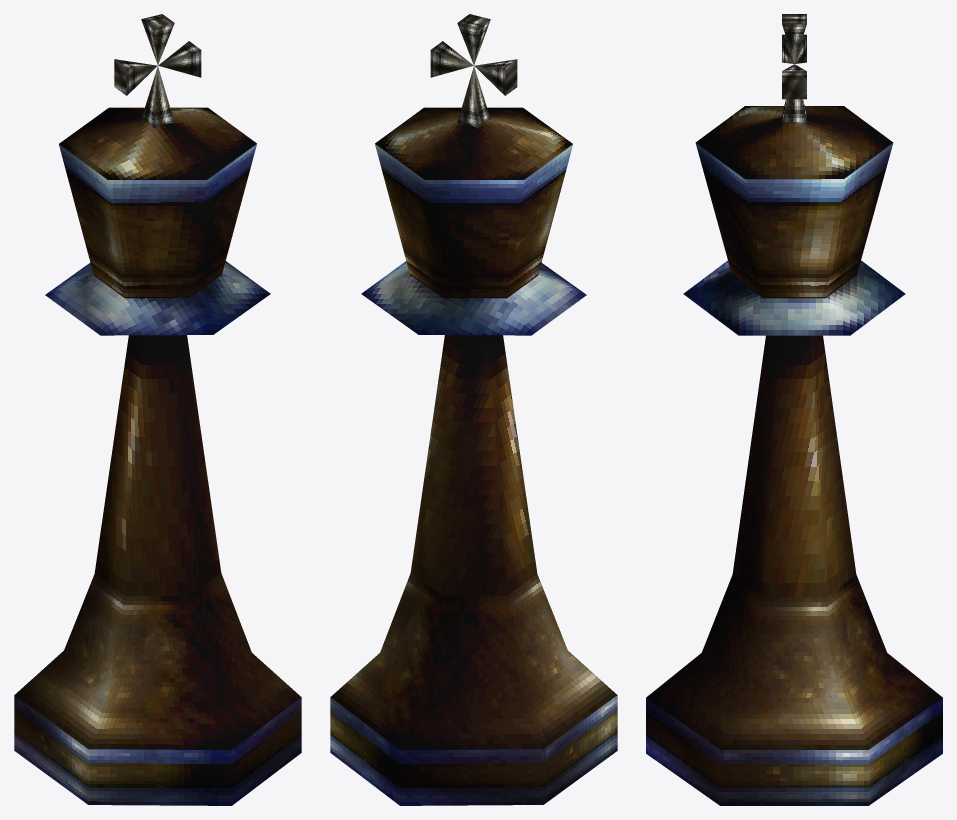
Rendered from KingB.obj.
3 renders of one model, left to right at view 1: azimuth 30°, elevation 25°; view 2: azimuth 150°, elevation 25°; view 3: azimuth 270°, elevation 25°, orthographic.
Visible parts, largest first — view 1: Mesh2 Group3 Group1 Model, Mesh3 Group4 Group1 Model, Mesh1 Group2 Group1 Model, Mesh5 Group5 Group1 Model, Mesh6 Group5 Group1 Model, Mesh7 Group5 Group1 Model, Mesh4 Group5 Group1 Model; view 2: Mesh2 Group3 Group1 Model, Mesh3 Group4 Group1 Model, Mesh1 Group2 Group1 Model, Mesh5 Group5 Group1 Model, Mesh6 Group5 Group1 Model, Mesh7 Group5 Group1 Model, Mesh4 Group5 Group1 Model; view 3: Mesh2 Group3 Group1 Model, Mesh3 Group4 Group1 Model, Mesh1 Group2 Group1 Model, Mesh7 Group5 Group1 Model, Mesh4 Group5 Group1 Model, Mesh5 Group5 Group1 Model.
Part boxes in pixels (x1=…): Mesh2 Group3 Group1 Model: x1=14, y1=335, x2=301, y2=805; Mesh3 Group4 Group1 Model: x1=59, y1=107, x2=256, y2=298; Mesh1 Group2 Group1 Model: x1=45, y1=261, x2=270, y2=335; Mesh5 Group5 Group1 Model: x1=141, y1=66, x2=174, y2=128; Mesh6 Group5 Group1 Model: x1=114, y1=59, x2=157, y2=95; Mesh7 Group5 Group1 Model: x1=158, y1=41, x2=201, y2=77; Mesh4 Group5 Group1 Model: x1=141, y1=14, x2=174, y2=64; Mesh2 Group3 Group1 Model: x1=330, y1=335, x2=617, y2=805; Mesh3 Group4 Group1 Model: x1=375, y1=107, x2=572, y2=298; Mesh1 Group2 Group1 Model: x1=361, y1=261, x2=586, y2=335; Mesh5 Group5 Group1 Model: x1=457, y1=66, x2=490, y2=128; Mesh6 Group5 Group1 Model: x1=474, y1=59, x2=517, y2=95; Mesh7 Group5 Group1 Model: x1=430, y1=41, x2=473, y2=77; Mesh4 Group5 Group1 Model: x1=457, y1=14, x2=490, y2=64; Mesh2 Group3 Group1 Model: x1=646, y1=335, x2=942, y2=805; Mesh3 Group4 Group1 Model: x1=695, y1=106, x2=893, y2=298; Mesh1 Group2 Group1 Model: x1=683, y1=260, x2=905, y2=335; Mesh7 Group5 Group1 Model: x1=782, y1=64, x2=806, y2=99; Mesh4 Group5 Group1 Model: x1=782, y1=14, x2=806, y2=63; Mesh5 Group5 Group1 Model: x1=782, y1=99, x2=806, y2=125.
Size of the model in its own units: 1.89 by 6.19 by 2.27.
Materials: 9 (9 with a texture image).
